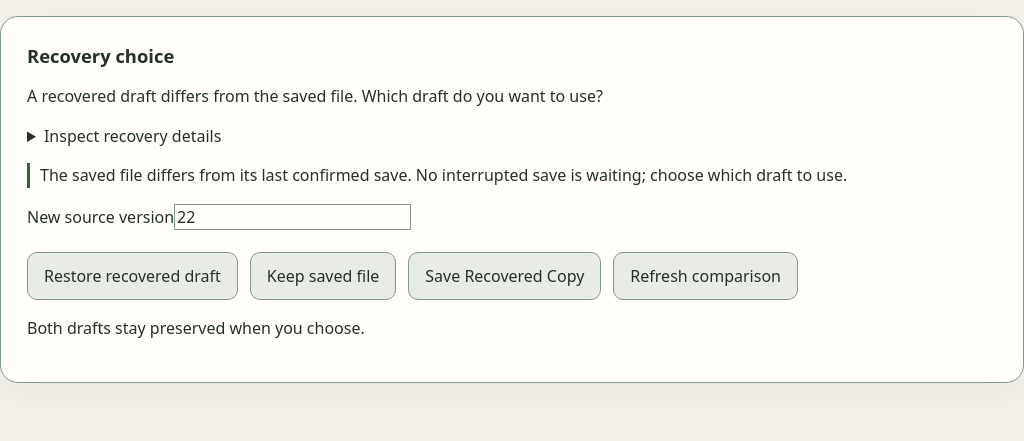
explicit recovery choices › distinguishes reviewed confirmed divergence from unresolved confirmedRecordDiverged
Expected: the text "Which draft do you want to use" is shown, [27,85,603,107]
Expected: the button "Restore recovered draft" is enabled, [27,252,238,300]
Click the button "Keep saved file" at (323, 276), box [250,252,396,300]
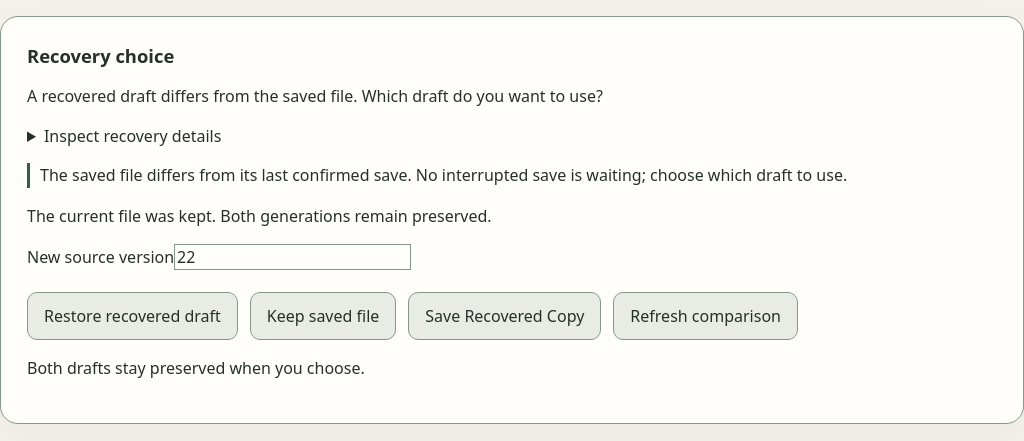
Expected: the text "The current file was kept. Both generations remain preserved." is shown, [27,205,492,227]
